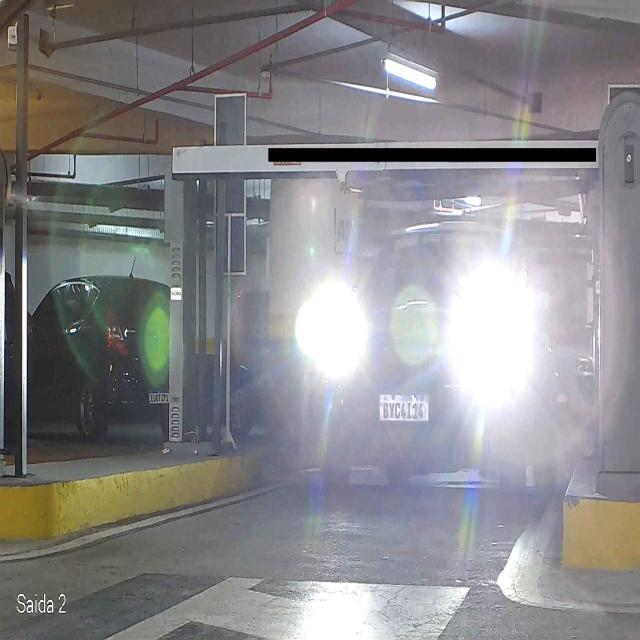mercosul_plate: (377, 392, 431, 422)
